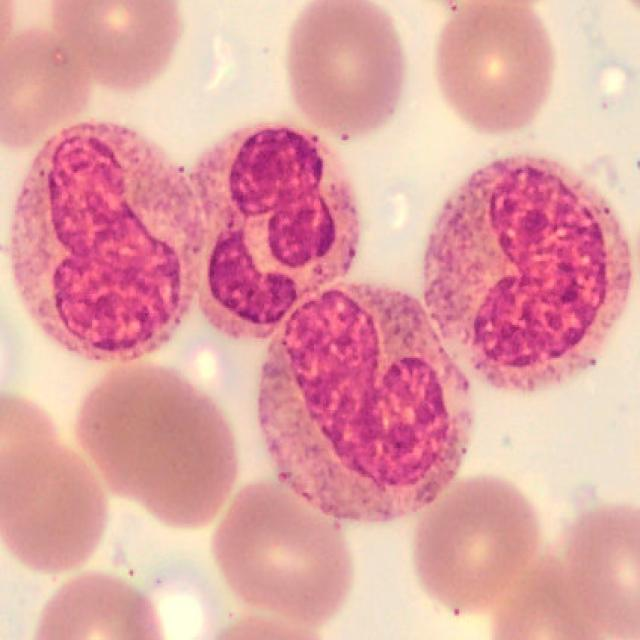Metamielocito: (258, 282, 471, 524), (426, 156, 632, 394), (9, 125, 204, 362)
Neutrofilo segmentado: (196, 125, 359, 341)
